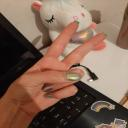PeaceSign: (8, 20, 108, 114)
